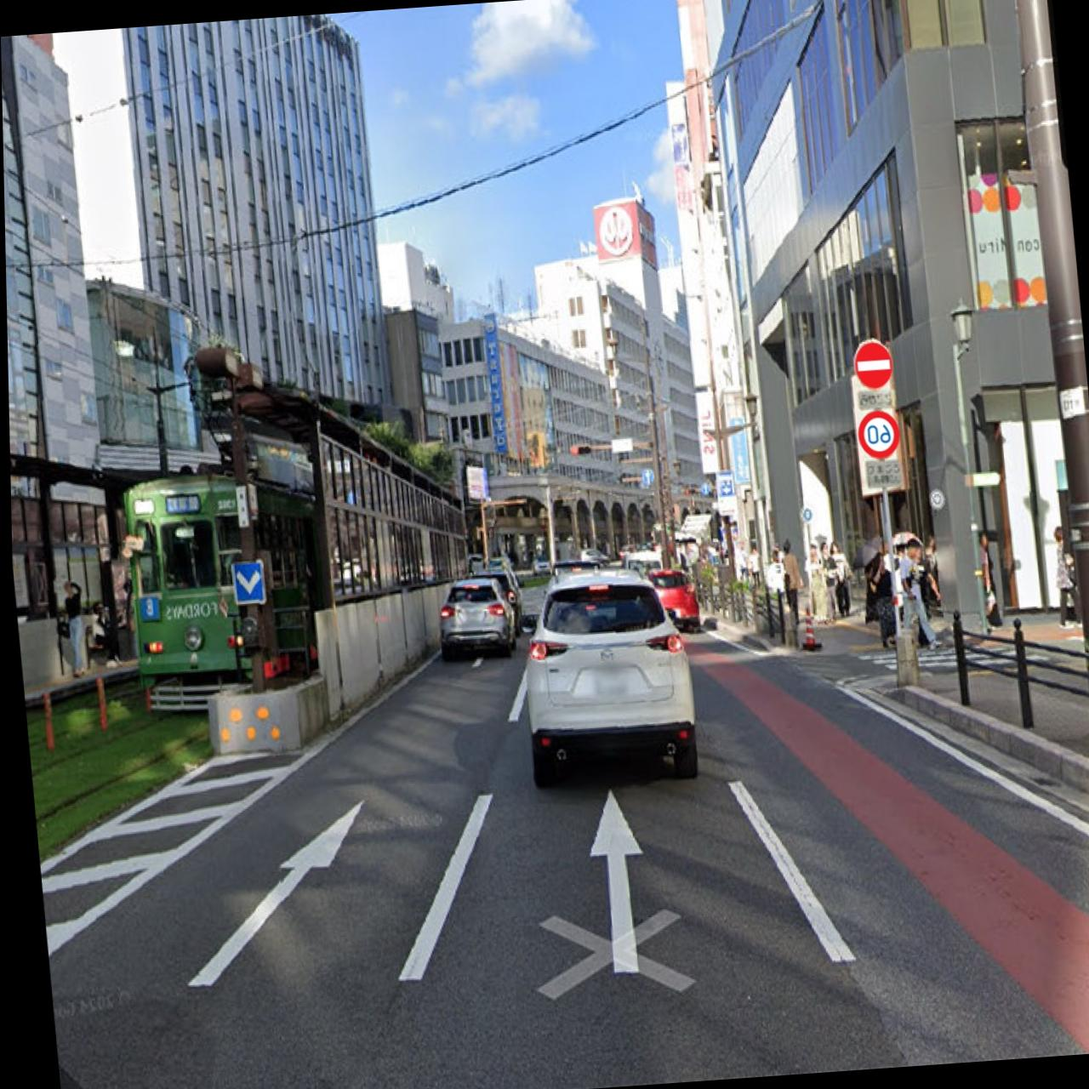barrier: (852, 339, 897, 391)
